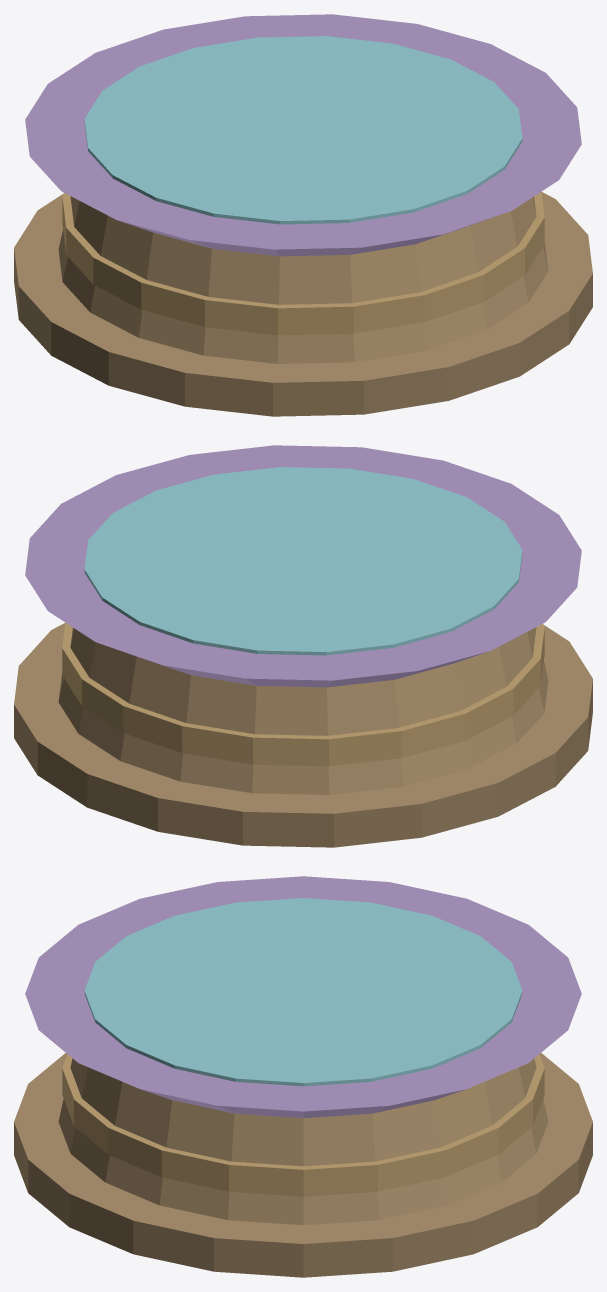
The model's file is goo_cork_stand@beach.fbx.
3 views of the same model, one above another, from view 1: azimuth 30°, elevation 25°; view 2: azimuth 150°, elevation 25°; view 3: azimuth 270°, elevation 25° (orthographic).
Visible parts, largest first — view 1: goo_cork_stand; view 2: goo_cork_stand; view 3: goo_cork_stand.
Part boxes in pixels (box(x1,y1,x2,y2)): goo_cork_stand: box(14, 14, 592, 416); goo_cork_stand: box(14, 445, 592, 847); goo_cork_stand: box(14, 876, 592, 1277).
Size of the model in its own units: 7.8 by 2.45 by 7.8.
